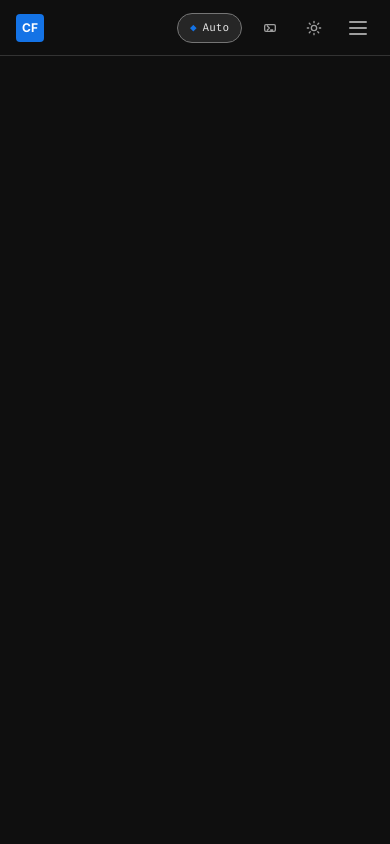
Test case: Header — auth and organization switching (PT-1b2) › under better-auth, the Settings link is present on desktop and in the mobile menu
Click the button named "Open menu".
click(358, 28)  # box [342,12,374,44]
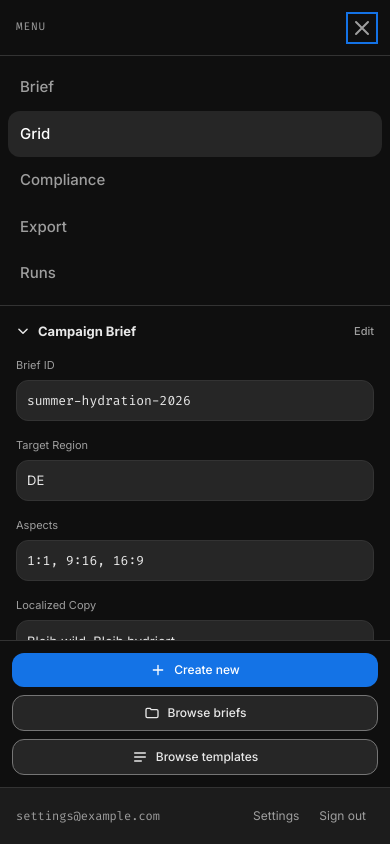
Check: the button "Settings" is shown, box [245,804,307,828]
